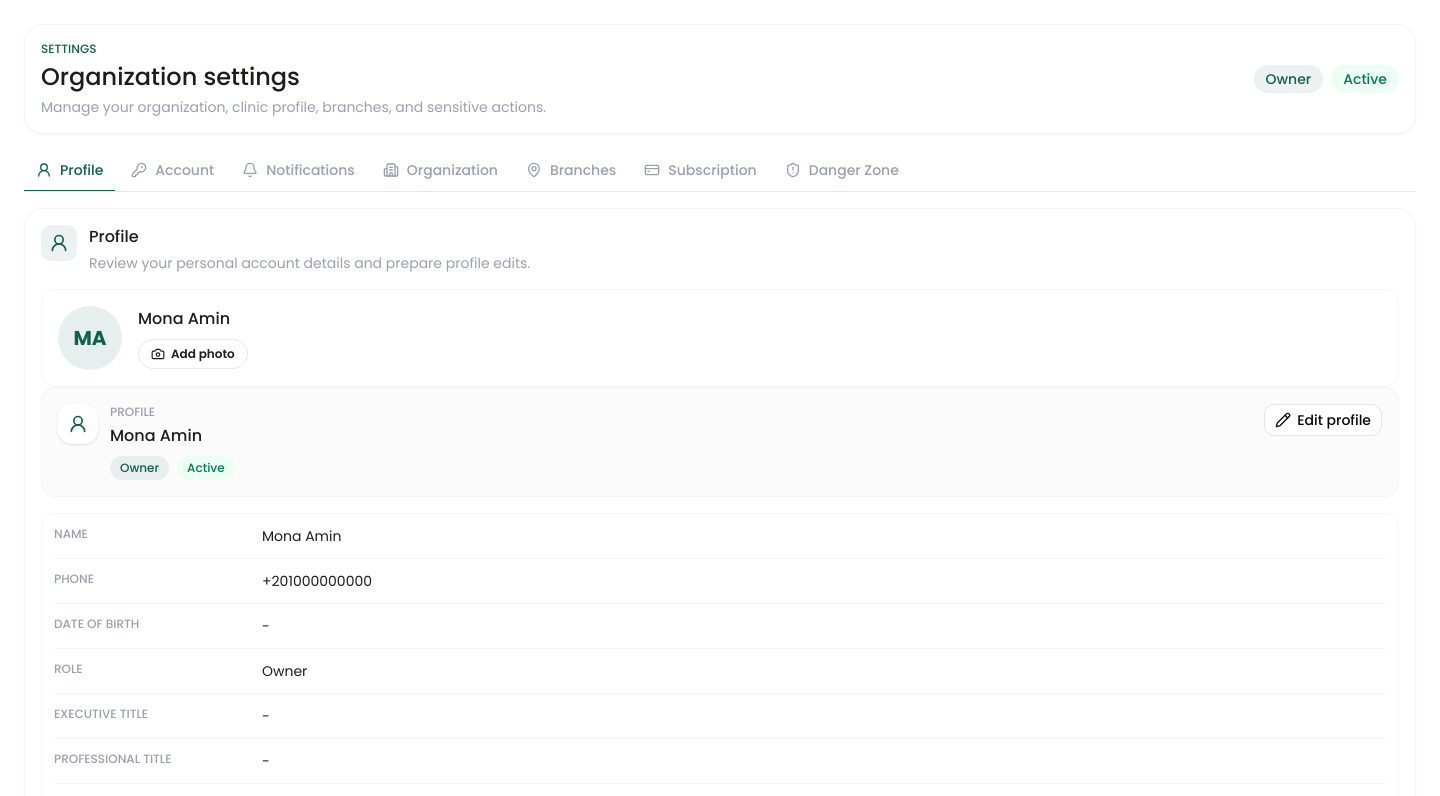
Test: SettingsPage › opens the typed-confirm dialog when deleting an organization
Click the button "Danger Zone".
click(842, 171)  # box x1=773 y1=150 x2=911 y2=192
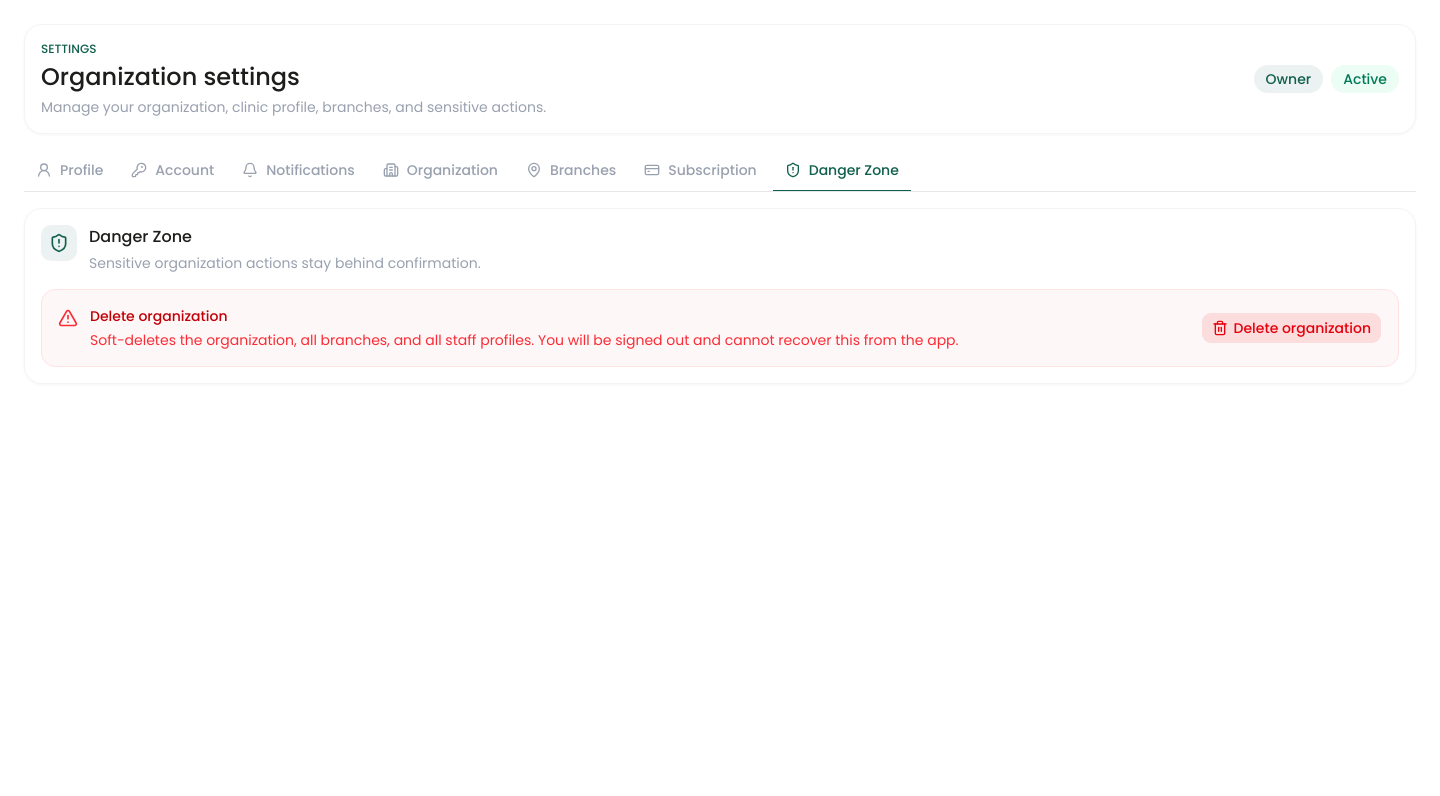
Click the button "Delete organization".
click(1291, 328)  # box x1=1200 y1=312 x2=1382 y2=344
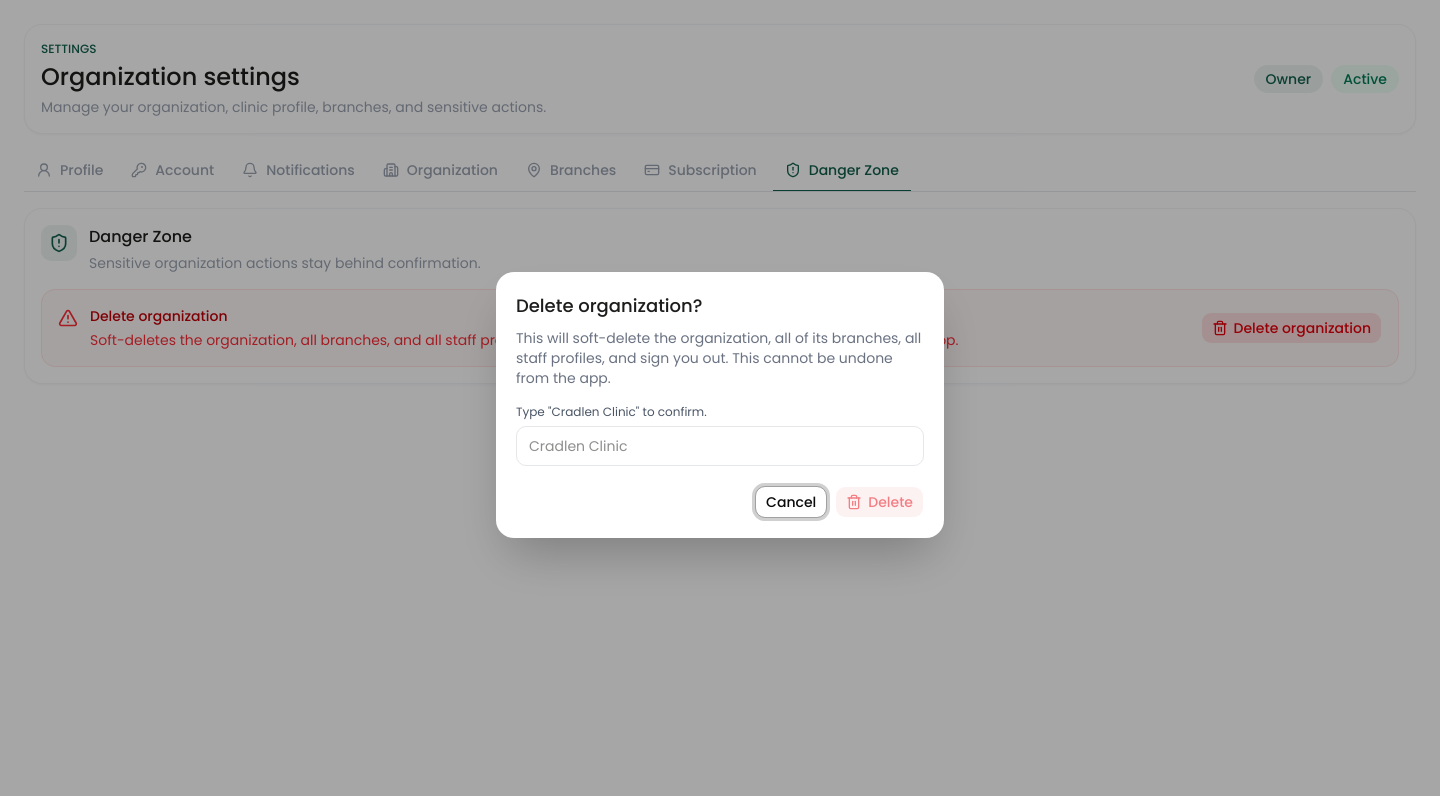
Check: the text "Type \"Cradlen Clinic\" to confirm." is shown, box x1=516 y1=403 x2=707 y2=420
